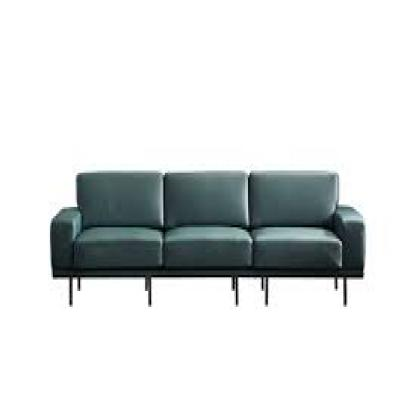sofa: (52, 173, 364, 309)
